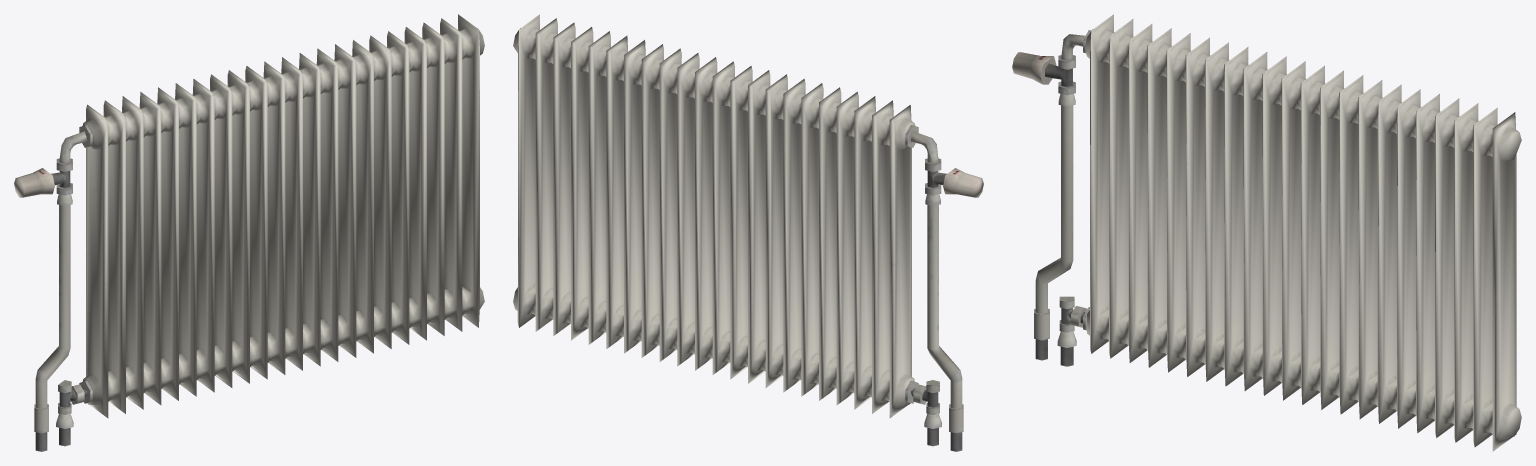
Rendered from old_radiator.glb.
3 views of the same model, side by side, from view 1: azimuth 30°, elevation 25°; view 2: azimuth 150°, elevation 25°; view 3: azimuth 330°, elevation 25° (orthographic). The views are drawn at different scales.
Visible parts, largest first — view 1: Complete; view 2: Complete; view 3: Complete.
Part boxes in pixels (bbox=[...]): Complete: bbox=[14, 14, 484, 451]; Complete: bbox=[513, 14, 983, 451]; Complete: bbox=[1012, 14, 1521, 451].
Bounding box in the file's own units: 0.9093 × 0.6089 × 0.0716.
1 material, 1 textured.
